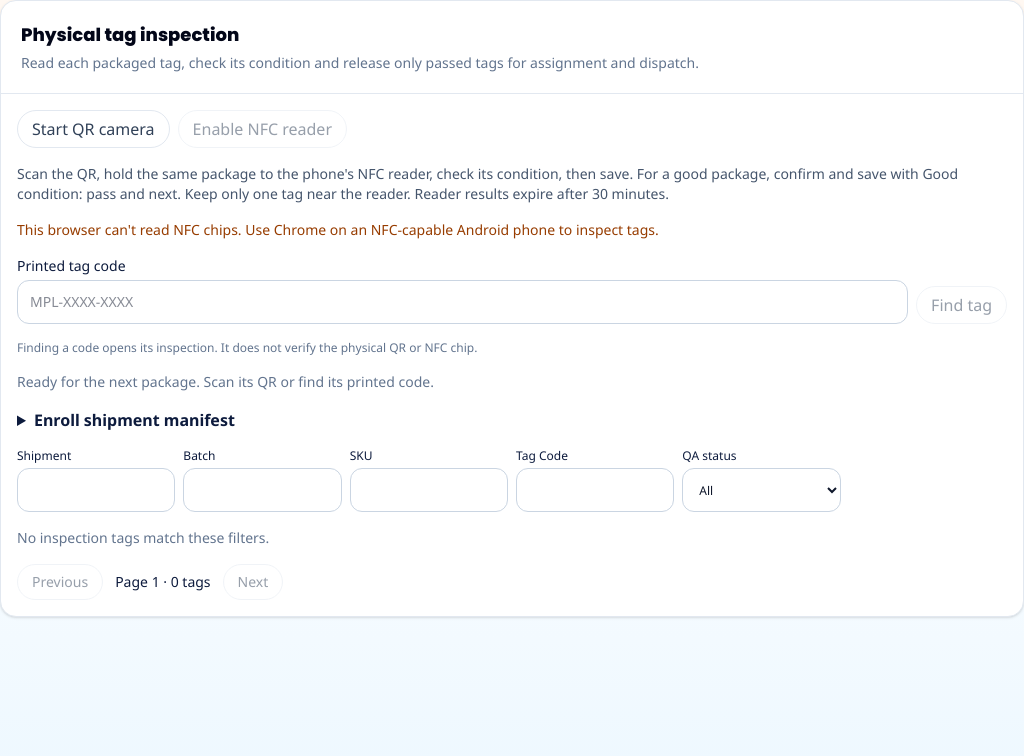
Test: mobile physical QA › shows an inspection history once
The width and height of the screenshot is (1024, 756).
In the field labelled "Printed tag code": {"x": 463, "y": 302} [17,280,908,324], type "MPL-ABCD-2345"
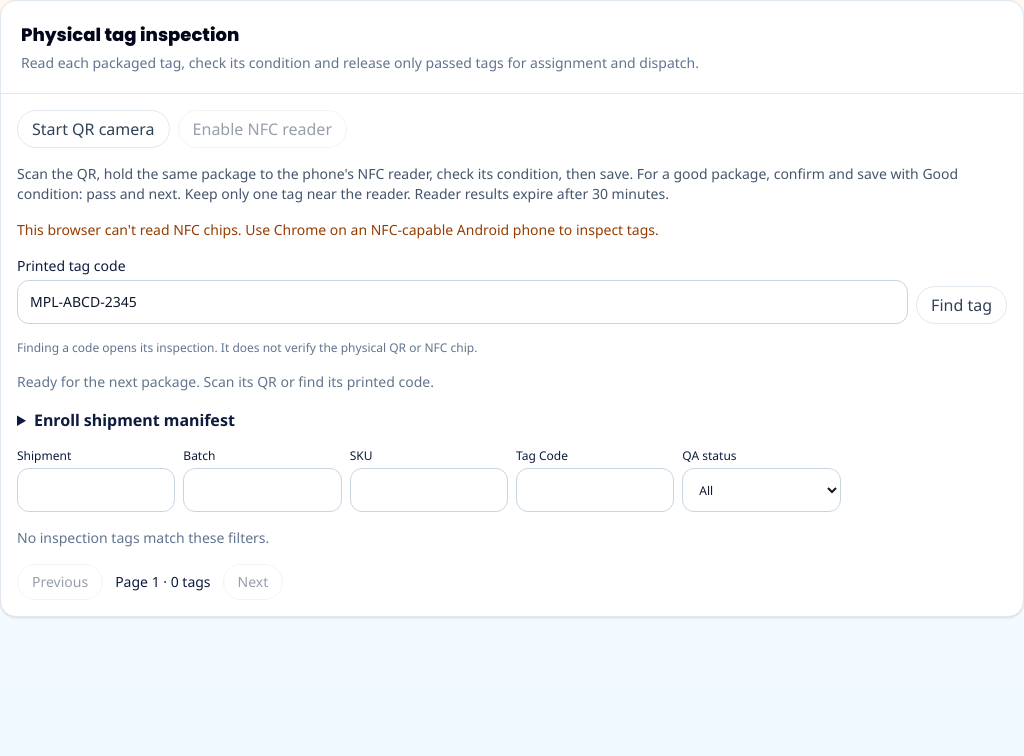
Click the button "Find tag": {"x": 962, "y": 305} [916,286,1007,324]
(page scrolled)
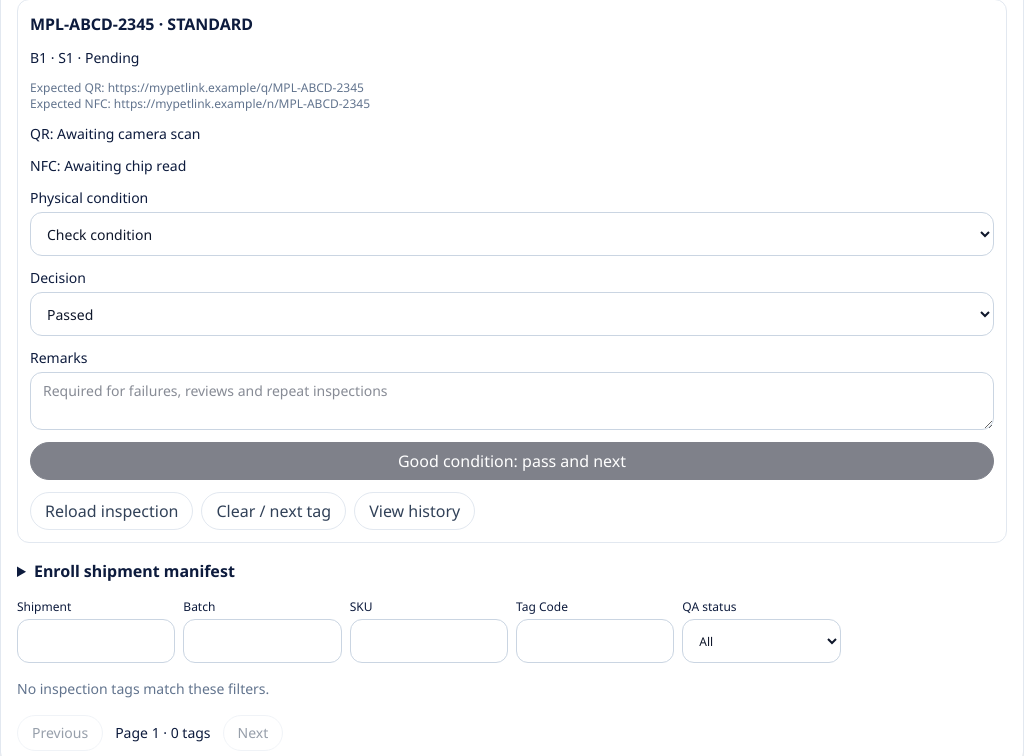
Click the button "View history": {"x": 415, "y": 511} [354,492,475,530]
(page scrolled)
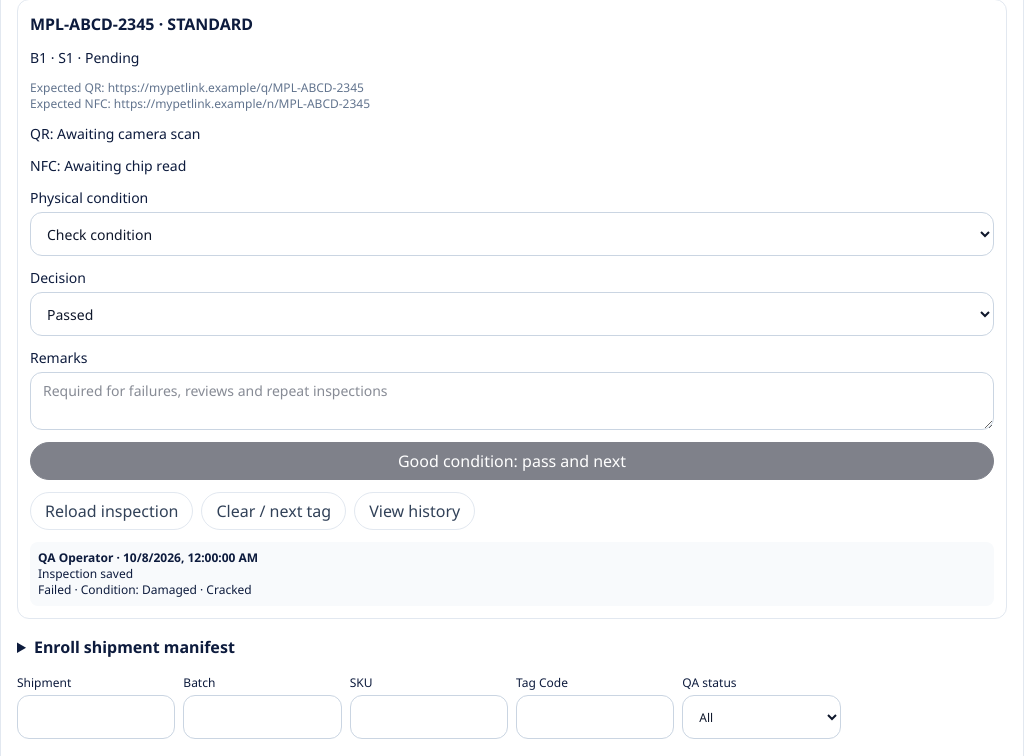
expect the text "Failed · Condition: Damaged · Cracked" is shown once: met, box [38,581,252,598]
